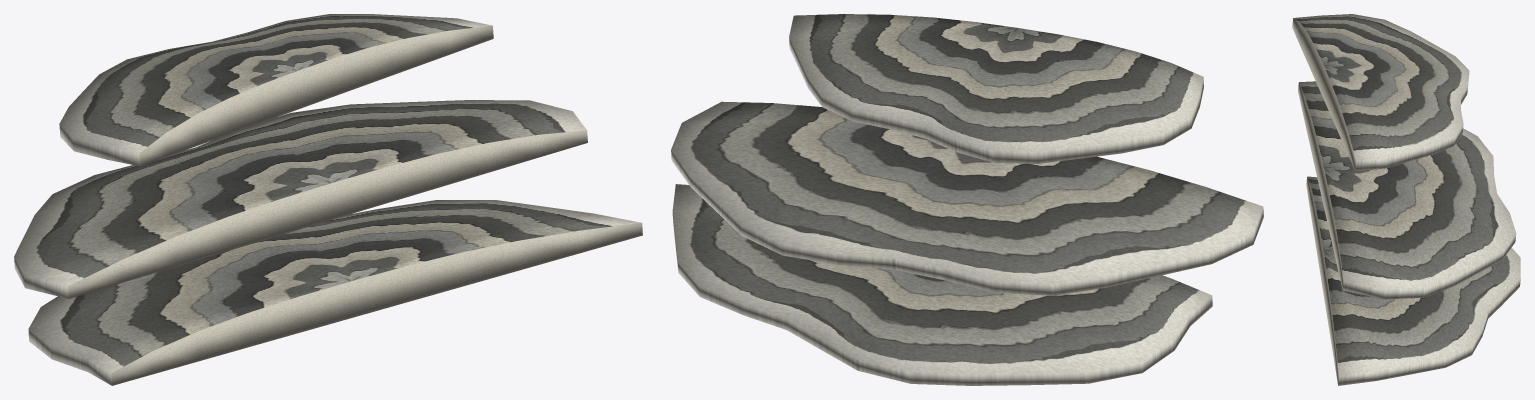
File: bracket_fungus_v03.fbx
The picture shows the model from 3 angles, left to right: view 1: azimuth 30°, elevation 25°; view 2: azimuth 150°, elevation 25°; view 3: azimuth 270°, elevation 25°; orthographic projection. The views are drawn at different scales.
Visible parts, largest first — view 1: bracket_fungus_v03; view 2: bracket_fungus_v03; view 3: bracket_fungus_v03.
Boxes of the visible parts, x1,y1,x2,y2 form: bracket_fungus_v03: [14, 14, 642, 385]; bracket_fungus_v03: [671, 14, 1263, 385]; bracket_fungus_v03: [1292, 14, 1520, 385].
Bounding box in the file's own units: 29.31 × 12.64 × 12.69.
2 materials, 2 textured.
